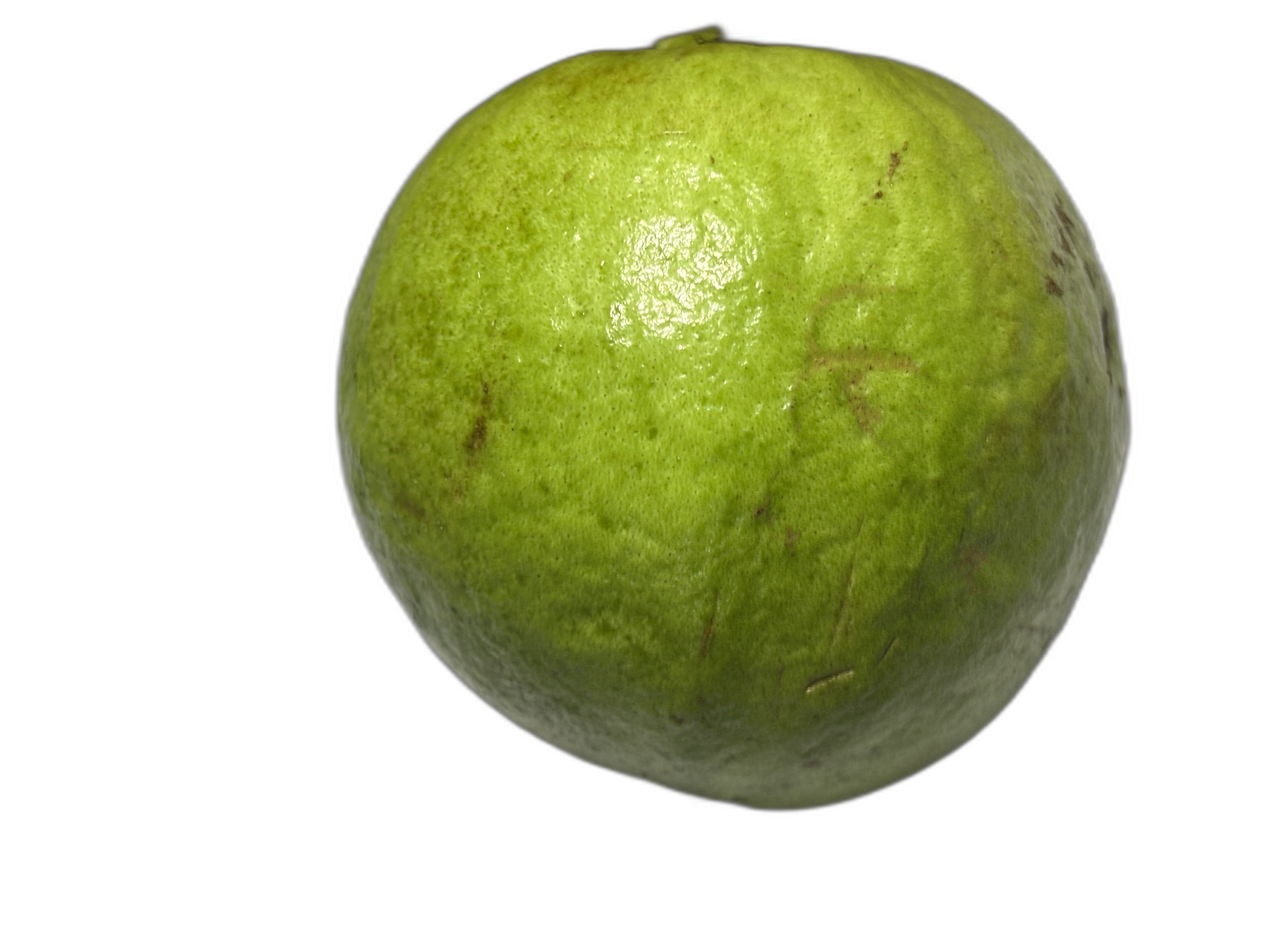guava: (226, 61, 1155, 832)
